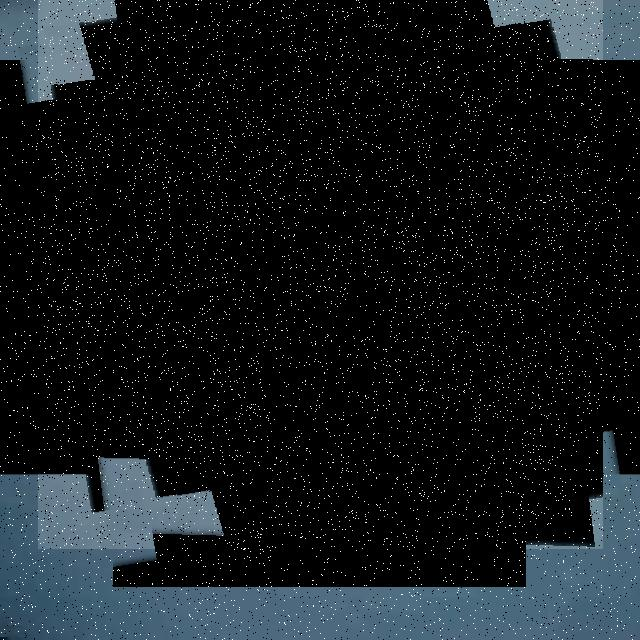dua ribu rupiah: (38, 0, 603, 549)
